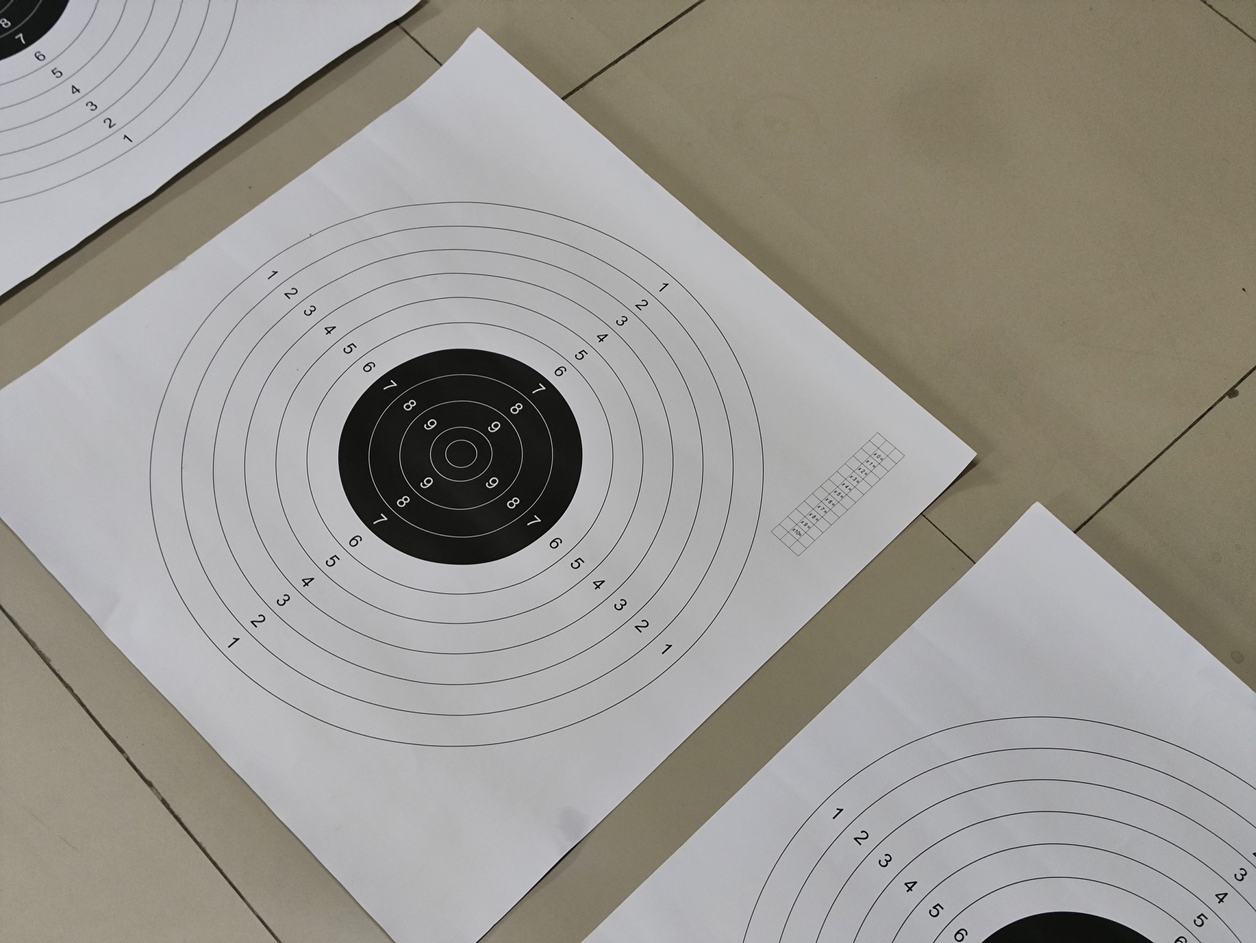target: (125, 171, 785, 760)
